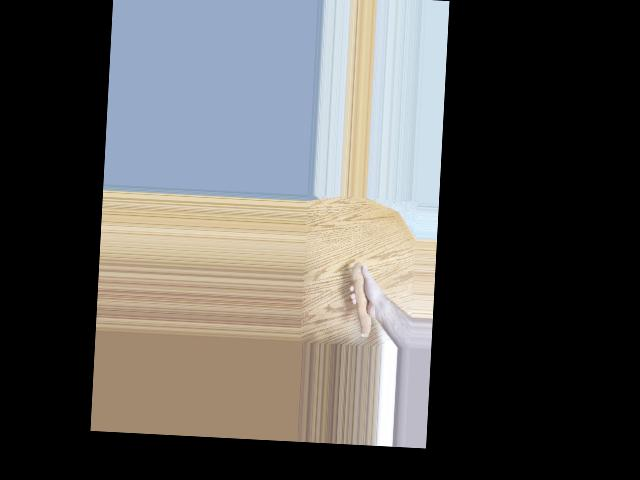sweet_potato: (347, 262, 377, 340)
